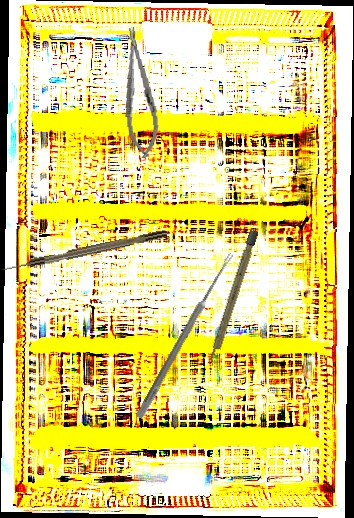Hook Surgical: (0, 229, 169, 274)
Needle Holder: (116, 25, 163, 160)
Scalpel Handle: (206, 230, 259, 367)
Surgical Spoon: (135, 251, 235, 420)
